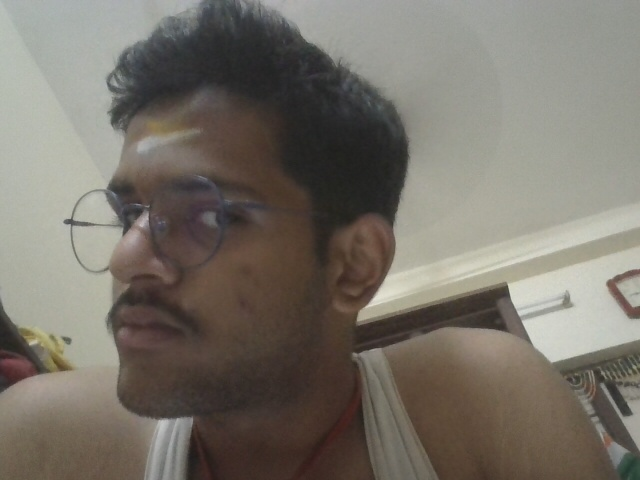real: (68, 202, 129, 263)
